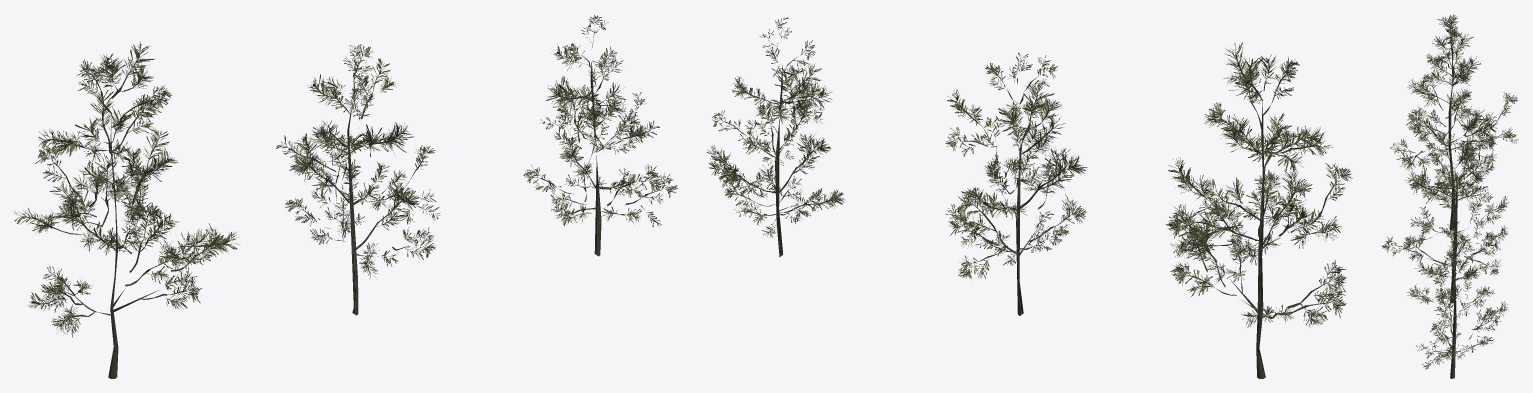
The model's file is village-pbr-pine_sapling_small.glb.
3 renders of one model, left to right at view 1: azimuth 30°, elevation 25°; view 2: azimuth 150°, elevation 25°; view 3: azimuth 270°, elevation 25°, orthographic. The views are drawn at different scales.
Visible parts, largest first — view 1: pine_sapling_small_b; view 2: pine_sapling_small_b; view 3: pine_sapling_small_b.
Part boxes in pixels (left/top/right/bottom): pine_sapling_small_b: left=14, top=15, right=677, bottom=378; pine_sapling_small_b: left=707, top=17, right=1352, bottom=378; pine_sapling_small_b: left=1381, top=14, right=1518, bottom=378.
Size of the model in its own units: 2.64 by 1.3 by 0.7703.
2 materials, 2 textured.
